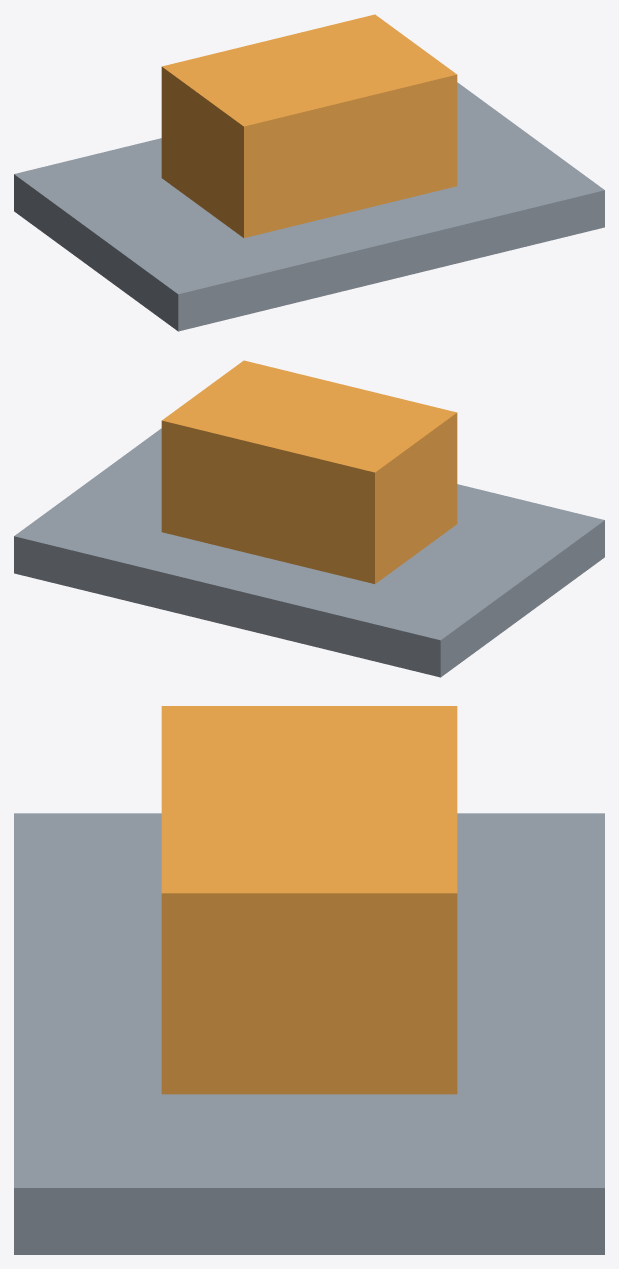
The model's file is studio-socle-mobile.glb.
3 views of the same model, one above another, from view 1: azimuth 30°, elevation 25°; view 2: azimuth 150°, elevation 25°; view 3: azimuth 270°, elevation 25° (orthographic). The views are drawn at different scales.
Visible parts, largest first — view 1: Socle_fixe, Bloc_mobile; view 2: Socle_fixe, Bloc_mobile; view 3: Socle_fixe, Bloc_mobile.
Part boxes in pixels (x1,y1,x2,y2): Socle_fixe: [14, 82, 604, 331]; Bloc_mobile: [161, 14, 457, 237]; Socle_fixe: [14, 428, 604, 677]; Bloc_mobile: [161, 360, 457, 583]; Socle_fixe: [14, 813, 604, 1254]; Bloc_mobile: [161, 706, 457, 1094].
Bounding box in the file's own units: 0.12 × 0.04 × 0.08.
